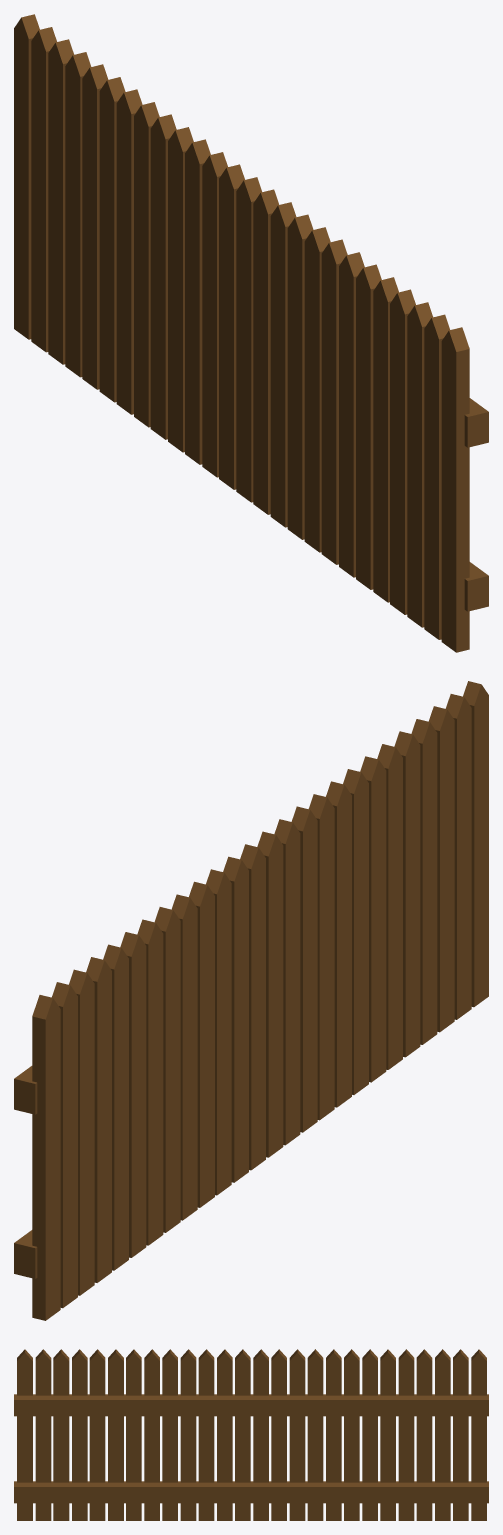
File: Fence 12.fbx
3 views of the same model, one above another, from view 1: azimuth 30°, elevation 25°; view 2: azimuth 150°, elevation 25°; view 3: azimuth 270°, elevation 25° (orthographic). The views are drawn at different scales.
Parts seen in each view (by area): view 1: Fence_12; view 2: Fence_12; view 3: Fence_12.
Part boxes in pixels (bbox=[...]): Fence_12: bbox=[14, 14, 488, 652]; Fence_12: bbox=[14, 681, 488, 1320]; Fence_12: bbox=[14, 1349, 488, 1520].
Size of the model in its own units: 16.01 by 163 by 418.
Materials: 1 (1 with a texture image).
